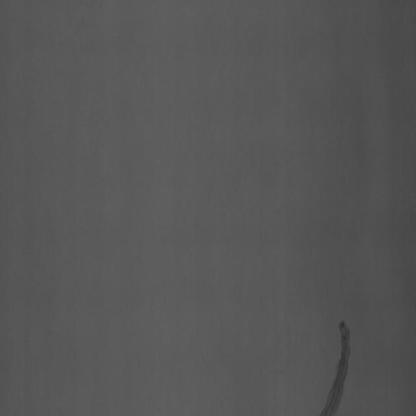water_spot: (319, 310, 356, 416)
